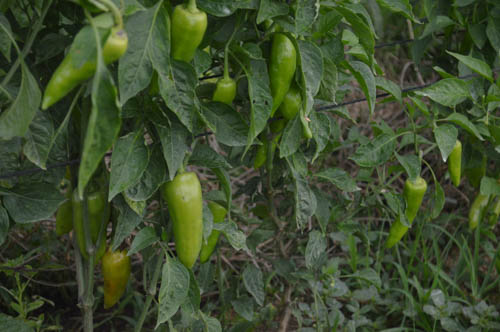ChiliPepper: (36, 26, 131, 112), (155, 171, 216, 271), (261, 19, 303, 128), (249, 90, 303, 173), (379, 167, 430, 254), (64, 179, 110, 263), (165, 4, 212, 75), (95, 248, 139, 320), (200, 190, 231, 268), (42, 179, 76, 242), (444, 130, 470, 194), (465, 173, 492, 232), (201, 72, 239, 109)
